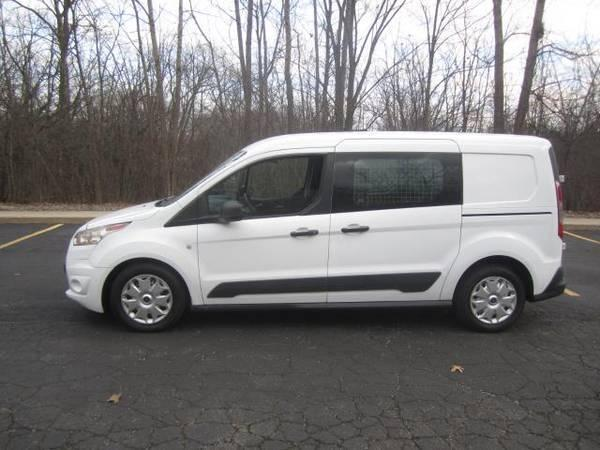Front_Bumper: (64, 247, 110, 313)
Front_Fender: (89, 205, 201, 307)
Front_Left_Door: (196, 212, 330, 302)
Front_Left_Window: (196, 151, 336, 221)
Hood: (83, 198, 159, 226)
Left_Headlight: (72, 221, 133, 245)
Rear_Bumper: (524, 261, 567, 300)
Rear_Fender: (439, 151, 561, 303)
Rear_Left_Door: (326, 204, 462, 302)
Rear_Left_Window: (330, 151, 463, 213)
Roof: (178, 130, 559, 207)
Wheel: (108, 265, 186, 332), (461, 264, 530, 329)
